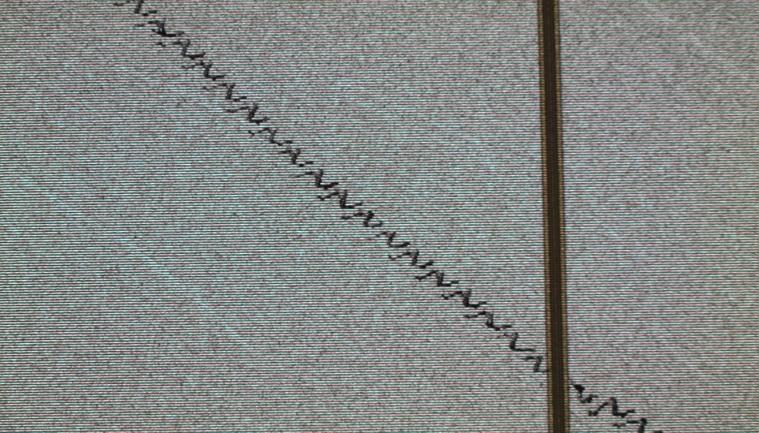SCRATCH: (111, 1, 677, 433)
